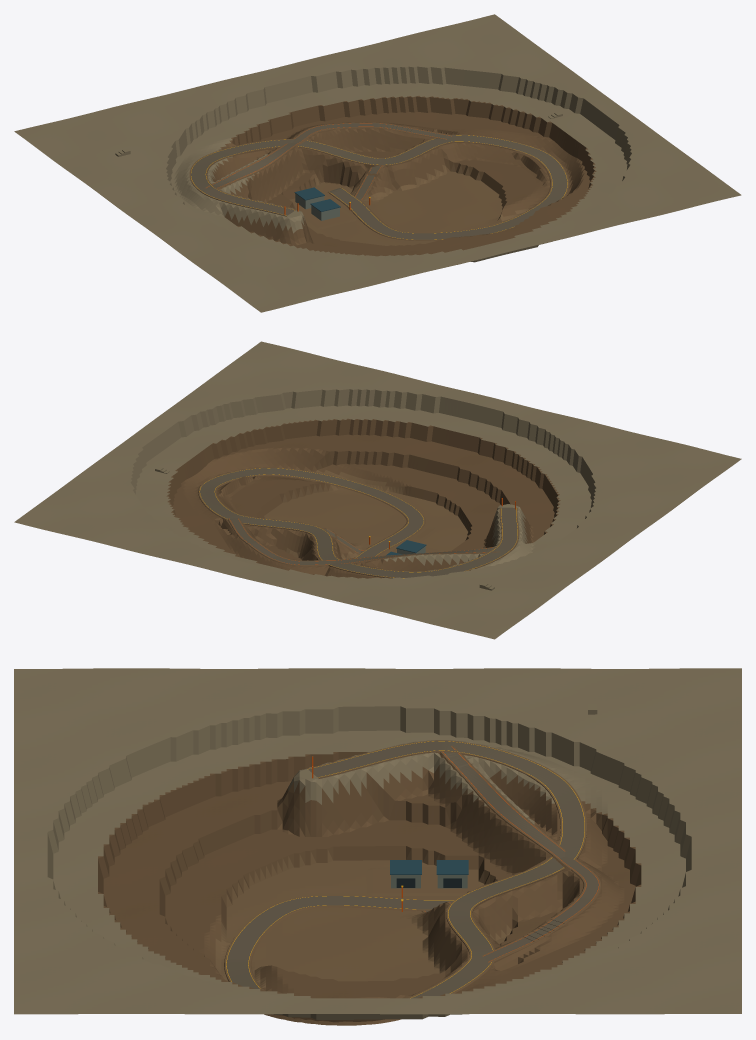
Rendered from quarry_climb.obj.
3 views of the same model, one above another, from view 1: azimuth 30°, elevation 25°; view 2: azimuth 150°, elevation 25°; view 3: azimuth 270°, elevation 25° (orthographic). The views are drawn at different scales.
Visible parts, largest first — view 1: Terraced_quarry_terrain, Easy_climb_and_return_route, B_uneven_step_shortcut, C_sideways_incline_shortcut, Easy_climb_and_return_route_retaining_wall_1; view 2: Terraced_quarry_terrain, Easy_climb_and_return_route, B_uneven_step_shortcut, C_sideways_incline_shortcut; view 3: Terraced_quarry_terrain, Easy_climb_and_return_route, C_sideways_incline_shortcut, B_uneven_step_shortcut, Easy_climb_and_return_route_retaining_wall_1, Easy_climb_and_return_route_retaining_wall_2.
Boxes of the visible parts, bbox=[...] form: Terraced_quarry_terrain: bbox=[14, 14, 741, 312]; Easy_climb_and_return_route: bbox=[189, 134, 568, 240]; B_uneven_step_shortcut: bbox=[293, 122, 452, 143]; C_sideways_incline_shortcut: bbox=[205, 142, 298, 188]; Easy_climb_and_return_route_retaining_wall_1: bbox=[207, 142, 550, 229]; Terraced_quarry_terrain: bbox=[14, 341, 741, 639]; Easy_climb_and_return_route: bbox=[198, 467, 519, 578]; B_uneven_step_shortcut: bbox=[227, 518, 335, 565]; C_sideways_incline_shortcut: bbox=[335, 547, 500, 564]; Terraced_quarry_terrain: bbox=[14, 668, 741, 1022]; Easy_climb_and_return_route: bbox=[224, 740, 586, 998]; C_sideways_incline_shortcut: bbox=[440, 745, 565, 858]; B_uneven_step_shortcut: bbox=[482, 856, 600, 962]; Easy_climb_and_return_route_retaining_wall_1: bbox=[250, 751, 560, 990]; Easy_climb_and_return_route_retaining_wall_2: bbox=[224, 835, 586, 1025].
Size of the model in its own units: 438 by 47.67 by 390.
